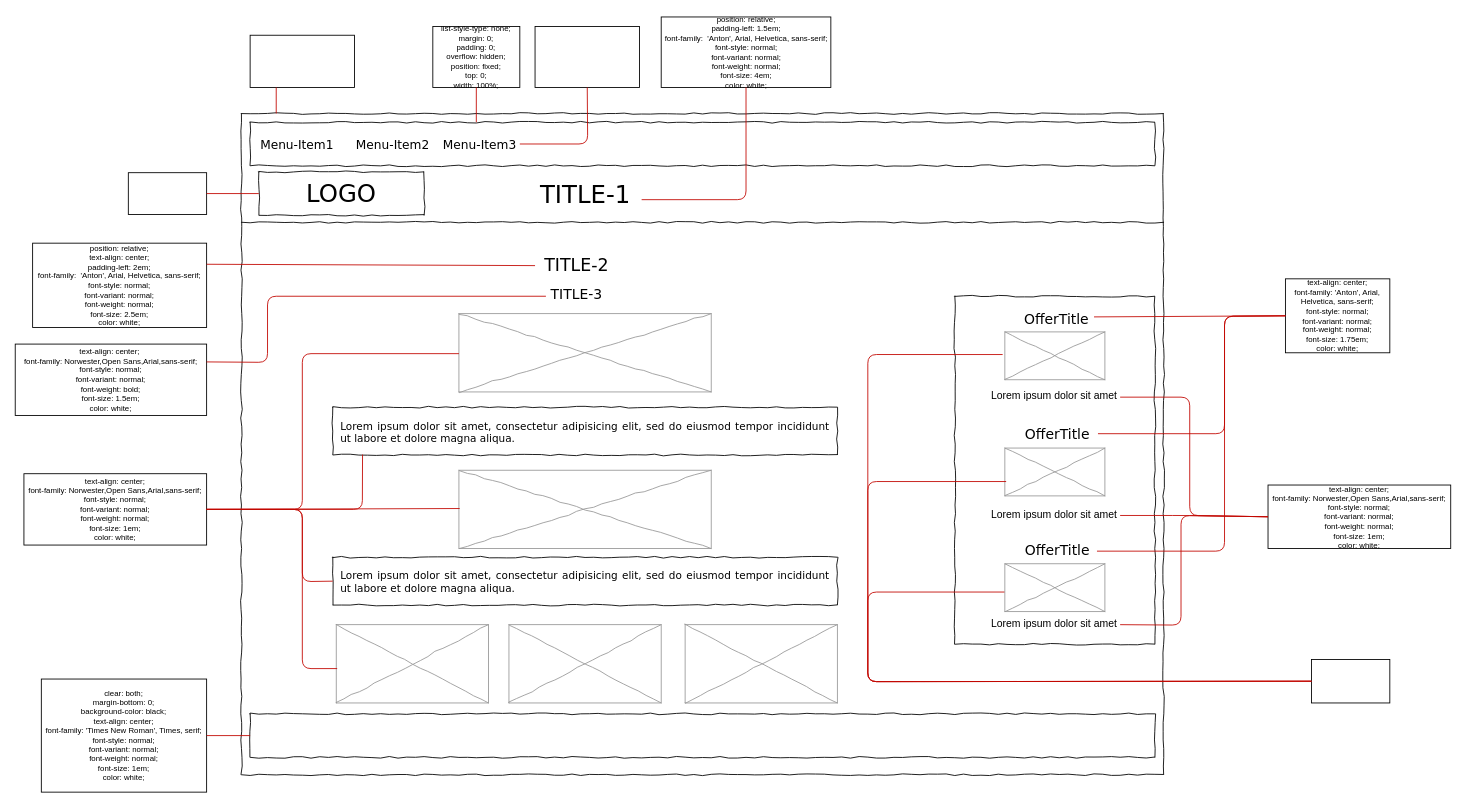
This 1466x807 diagram has some shape labels left out. Here are the shapes that lost their labels. From the top down, the centre of each, then its label:
At pixel 302 60: "background-color: black;".
At pixel 586 56: "float: left; border-right: 1px solid #bbb;".
At pixel 167 193: "float: left; padding-top: 1em;".
At pixel 1350 681: "display: block; margin-left: auto; margin-right: auto; width: 50%;".
At pixel 702 735: "Footer".
